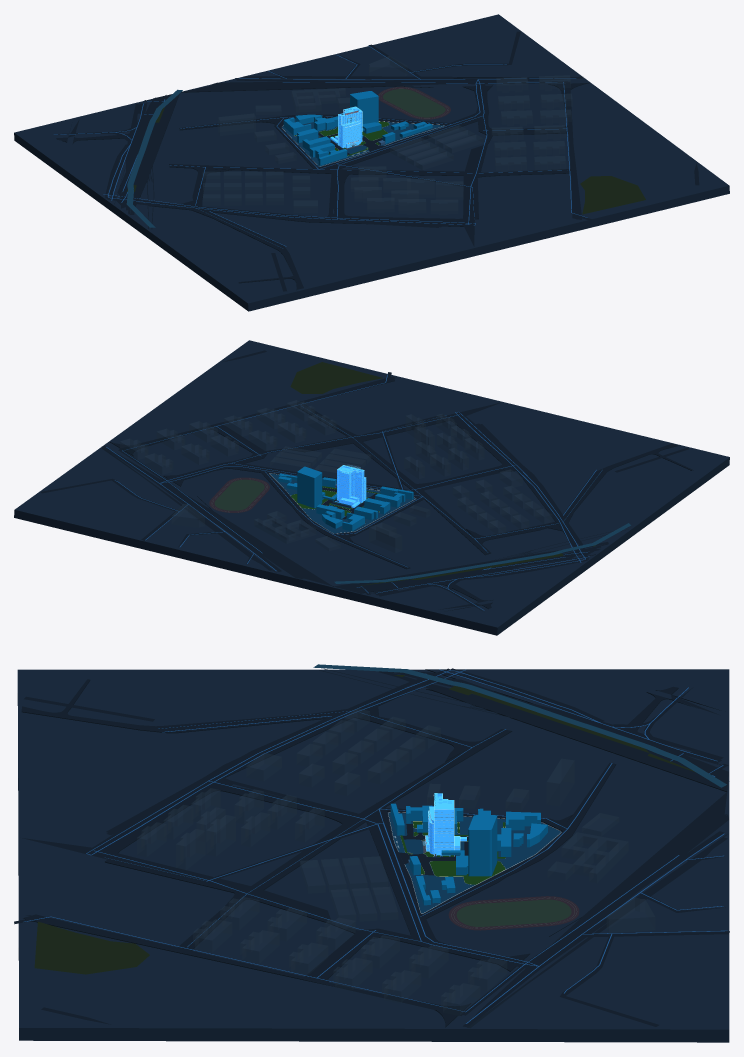
File: fssy0822.glb
3 renders of one model, top to bottom at view 1: azimuth 30°, elevation 25°; view 2: azimuth 150°, elevation 25°; view 3: azimuth 270°, elevation 25°, orthographic. The views are drawn at different scales.
Parts seen in each view (by area): view 1: 地平面.001, 周边建筑6.001, 路-绘制.002, 路-2.002, 路-2-蓝-动效.002, 医院建筑.003, 绿化.002, 2-操场.001, 水.002, 占地面积, 楼2.001, 路.002; view 2: 地平面.001, 周边建筑6.001, 路-绘制.002, 路-2.002, 路-2-蓝-动效.002, 绿化.002, 医院建筑.003, 2-操场.001, 水.002, 楼2.001, 占地面积, 路.002; view 3: 地平面.001, 周边建筑6.001, 路-绘制.002, 路-2.002, 路-2-蓝-动效.002, 绿化.002, 2-操场.001, 占地面积, 医院建筑.003, 水.002, 楼2.001, 路.002 (+2 smaller).
Boxes of the visible parts, box(x1,y1,x2,y2) form: 地平面.001: box(14, 14, 729, 311); 周边建筑6.001: box(203, 56, 572, 214); 路-绘制.002: box(56, 76, 589, 289); 路-2.002: box(54, 31, 699, 291); 路-2-蓝-动效.002: box(54, 45, 587, 248); 医院建筑.003: box(283, 114, 432, 165); 绿化.002: box(126, 107, 645, 214); 2-操场.001: box(378, 86, 450, 119); 水.002: box(126, 89, 182, 227); 占地面积: box(282, 118, 444, 166); 楼2.001: box(350, 91, 381, 137); 路.002: box(125, 102, 147, 214); 地平面.001: box(14, 340, 729, 635); 周边建筑6.001: box(120, 400, 551, 552); 路-绘制.002: box(101, 376, 693, 610); 路-2.002: box(41, 350, 688, 611); 路-2-蓝-动效.002: box(106, 374, 628, 610); 绿化.002: box(290, 362, 595, 586); 医院建筑.003: box(278, 473, 413, 531); 2-操场.001: box(209, 477, 269, 512); 水.002: box(334, 523, 630, 583); 楼2.001: box(297, 466, 336, 508); 占地面积: box(269, 473, 415, 533); 路.002: box(371, 542, 608, 596); 地平面.001: box(17, 669, 729, 1042); 周边建筑6.001: box(137, 708, 654, 1015); 路-绘制.002: box(21, 669, 729, 1028); 路-2.002: box(14, 668, 729, 1027); 路-2-蓝-动效.002: box(24, 668, 727, 1023); 绿化.002: box(34, 675, 695, 974); 2-操场.001: box(448, 896, 579, 930); 占地面积: box(388, 812, 560, 913); 医院建筑.003: box(390, 803, 547, 905); 水.002: box(313, 664, 726, 787); 楼2.001: box(441, 815, 497, 876); 路.002: box(379, 671, 723, 765).
Bounding box in the file's own units: 60.2 × 4.85 × 50.5.
